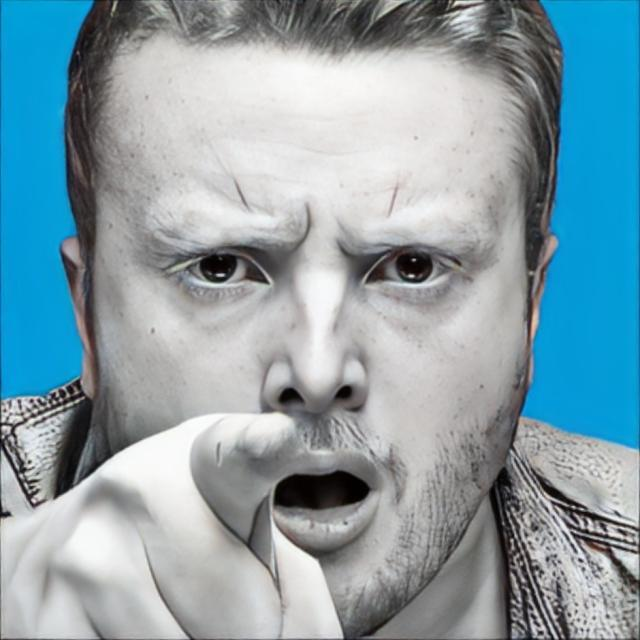anger: (103, 51, 525, 610)
